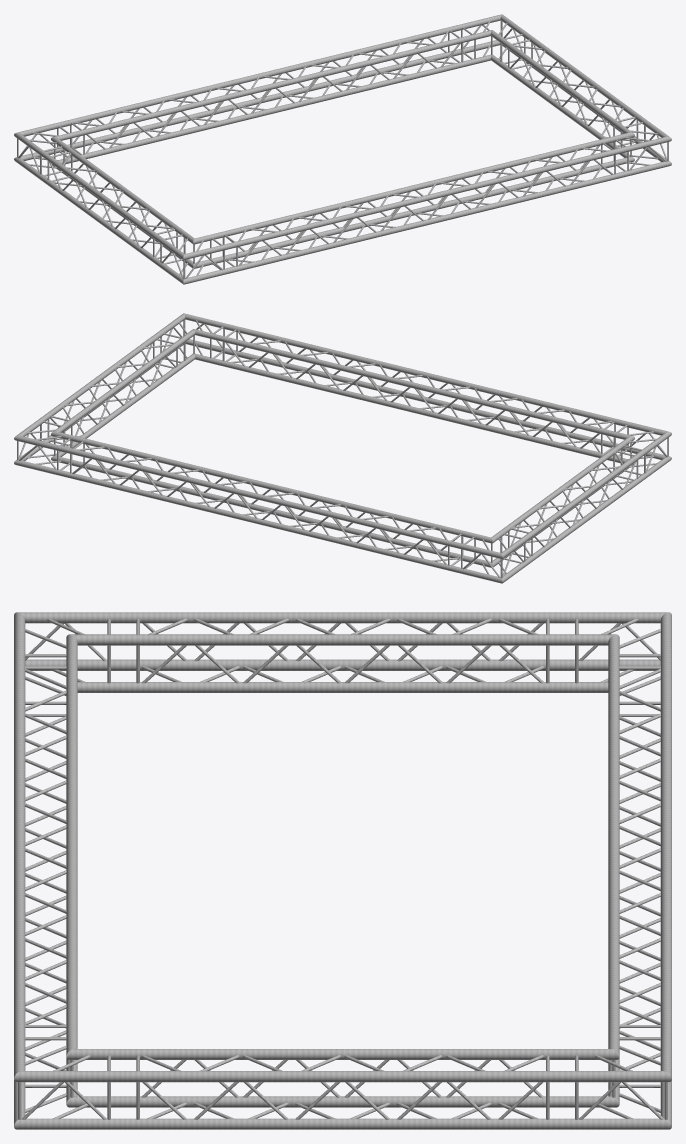
File: truss-5x3.glb
The picture shows the model from 3 angles, top to bottom: view 1: azimuth 30°, elevation 25°; view 2: azimuth 150°, elevation 25°; view 3: azimuth 270°, elevation 25°; orthographic projection. The views are drawn at different scales.
Visible parts, largest first — view 1: Component; view 2: Component; view 3: Component.
Boxes of the visible parts, x1,y1,x2,y2 form: Component: (14, 14, 671, 284); Component: (14, 313, 671, 583); Component: (14, 612, 671, 1129).
Size of the model in its own units: 5 by 0.2899 by 3.
1 material, 1 textured.
